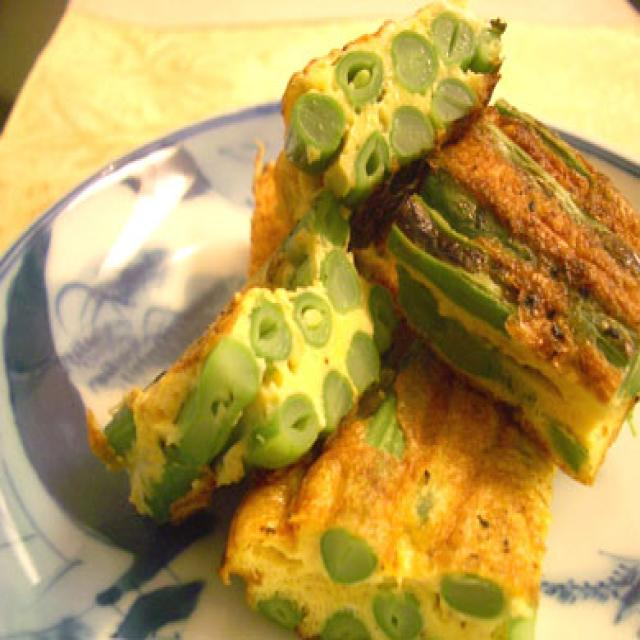鸡蛋料理: (84, 0, 638, 640)
